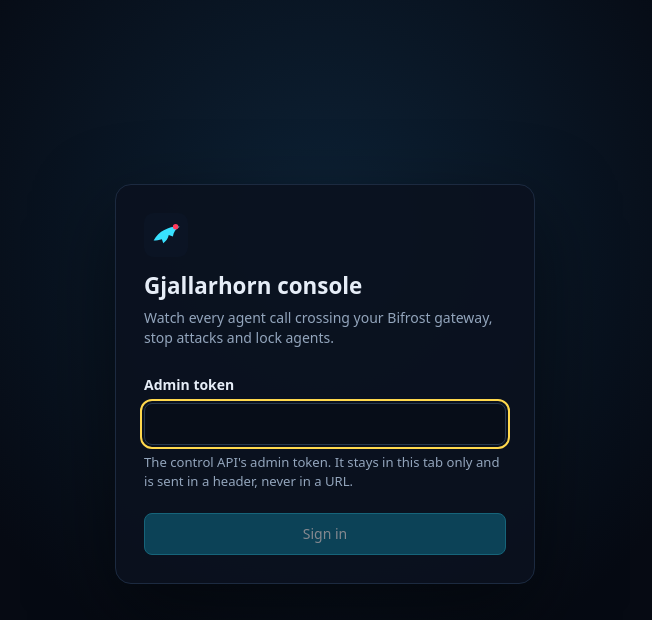
Test case: Login › explains a rejected token
The width and height of the screenshot is (652, 620).
Type "wrong-token" into the password field labelled "Admin token" at coordinates (325, 424), box [144,403,506,445]
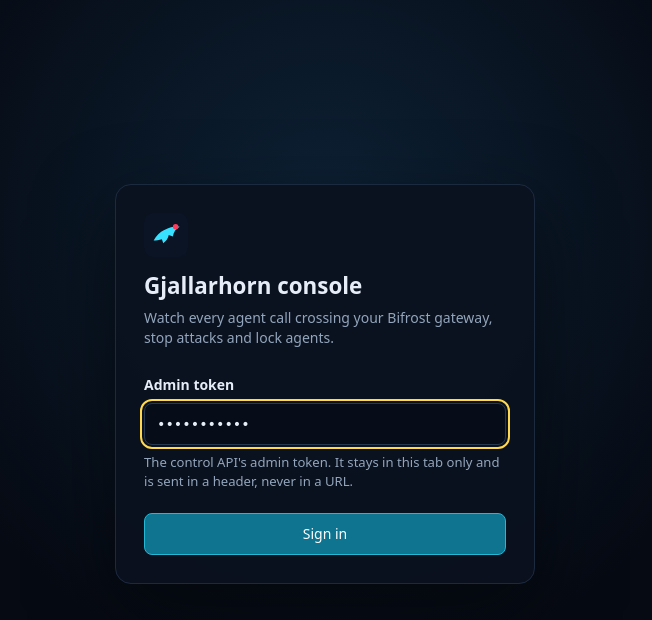
Click the button "Sign in" at coordinates (325, 534), box [144,513,506,555]
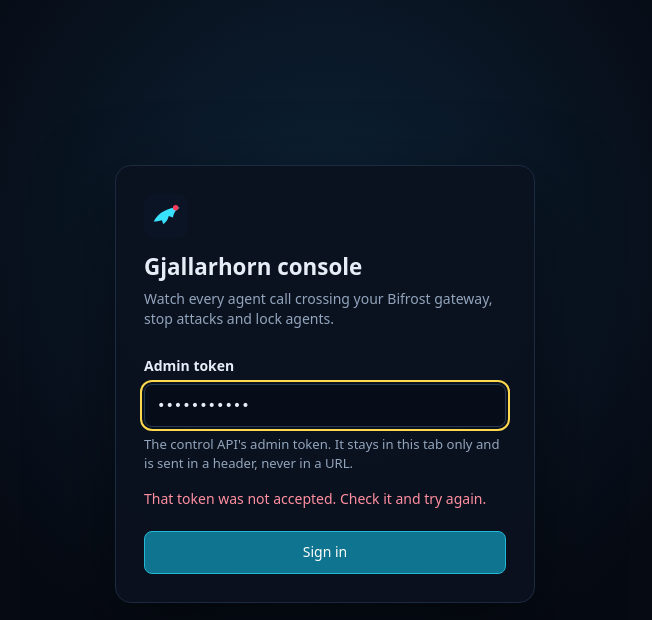
Expected: the message shows "not accepted", [144,489,486,508]
